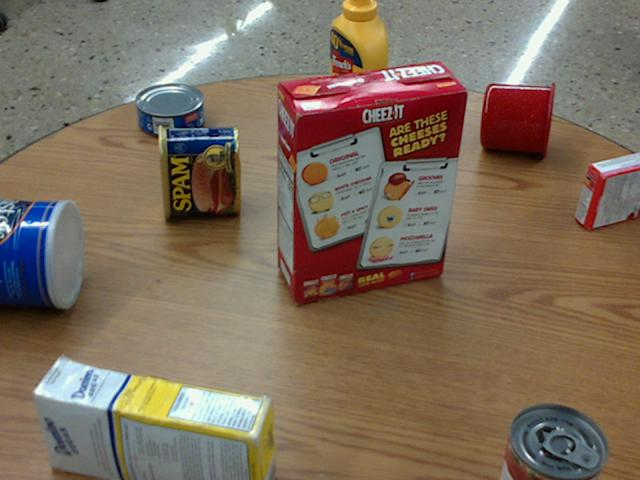cracker_box: (275, 59, 467, 302)
gelatin_box: (576, 154, 639, 230)
master_chef_can: (0, 199, 85, 307)
mug: (481, 80, 553, 156)
mustard_bottle: (328, 0, 386, 145)
potted_meat_can: (158, 123, 239, 217)
sugar_box: (30, 359, 274, 479)
tomato_soup_can: (500, 401, 607, 479)
tuna_fish_can: (136, 81, 204, 136)
